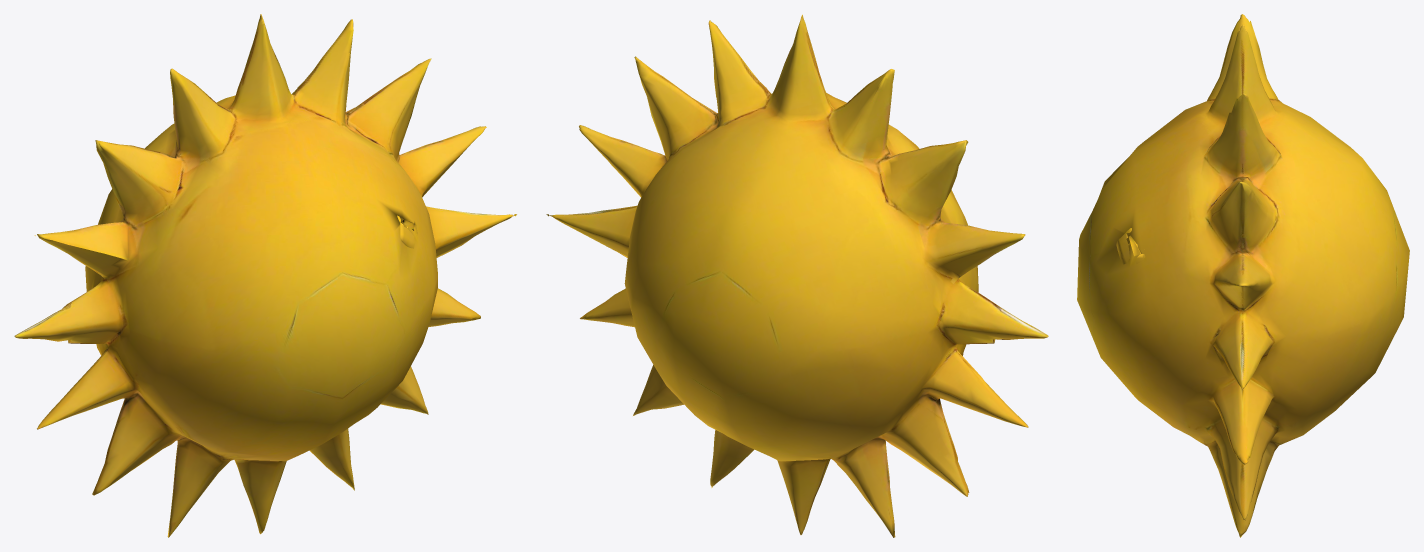
File: sun-fantastic.glb
3 renders of one model, left to right at view 1: azimuth 30°, elevation 25°; view 2: azimuth 150°, elevation 25°; view 3: azimuth 270°, elevation 25°, orthographic. The views are drawn at different scales.
Parts seen in each view (by area): view 1: Mesh0; view 2: Mesh0; view 3: Mesh0.
Boxes of the visible parts, left/top/right/bottom form: Mesh0: left=14, top=14, right=516, bottom=537; Mesh0: left=546, top=14, right=1048, bottom=537; Mesh0: left=1077, top=14, right=1409, bottom=537.
Bounding box in the file's own units: 1.87 × 1.86 × 1.14.
1 material, 1 textured.
